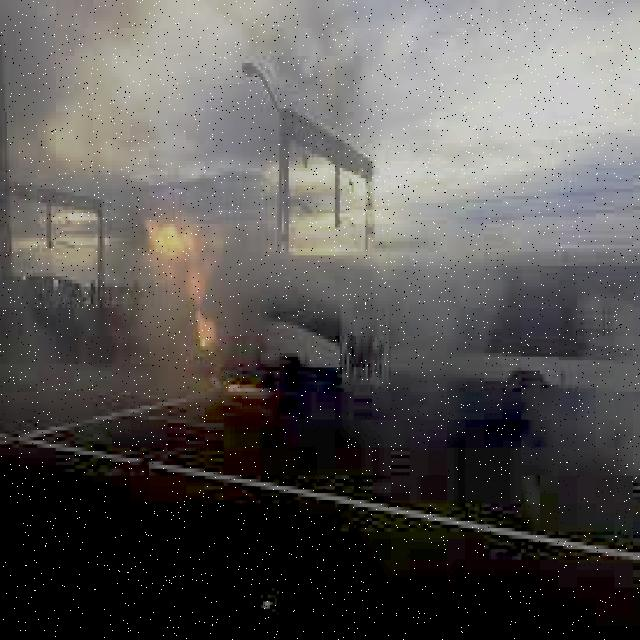api: (129, 218, 269, 400)
